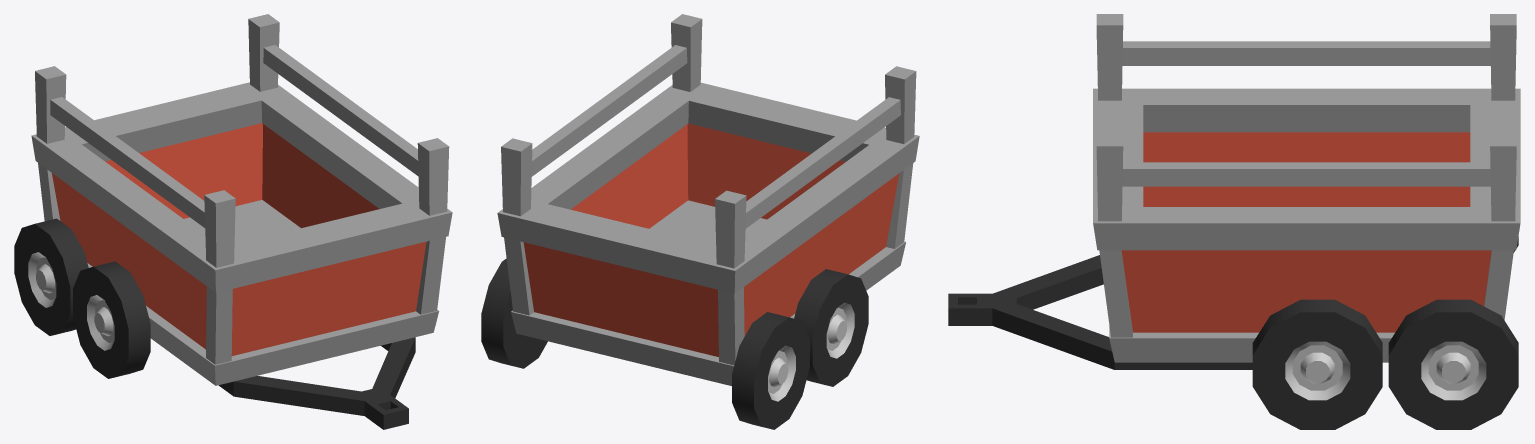
Rendered from Trailer_1.fbx.
3 renders of one model, left to right at view 1: azimuth 30°, elevation 25°; view 2: azimuth 150°, elevation 25°; view 3: azimuth 270°, elevation 25°, orthographic. The views are drawn at different scales.
Parts seen in each view (by area): view 1: Trailer_1; view 2: Trailer_1; view 3: Trailer_1.
Part boxes in pixels (x1,y1,x2,y2): Trailer_1: (14,14,452,429); Trailer_1: (481,14,919,429); Trailer_1: (948,14,1520,429).
Bounding box in the file's own units: 61.69 × 50.52 × 95.92.
